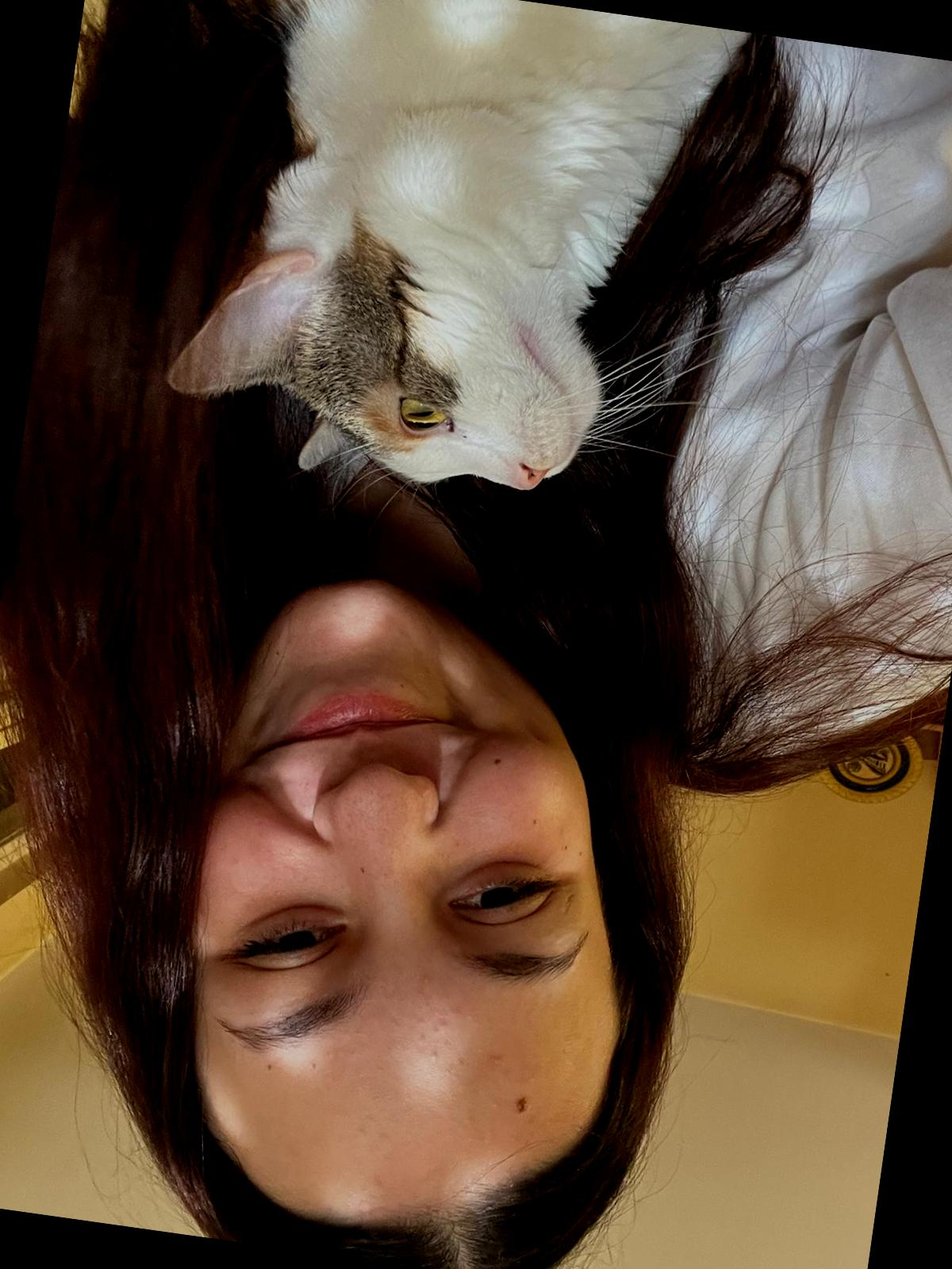macka: (147, 0, 739, 516)
